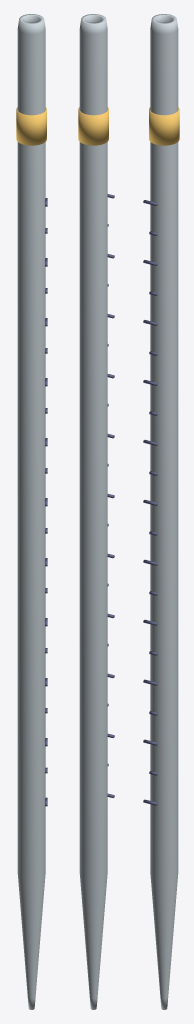
File: pipeta.glb
The picture shows the model from 3 angles, left to right: view 1: azimuth 90°, elevation 25°; view 2: azimuth 150°, elevation 25°; view 3: azimuth 330°, elevation 25°; orthographic projection.
Visible parts, largest first — view 1: pipeta_1, pipeta_2, pipeta_3; view 2: pipeta_1, pipeta_2, pipeta_3; view 3: pipeta_1, pipeta_2, pipeta_3.
Part boxes in pixels (x1,y1,x2,y2): pipeta_1: [17, 14, 45, 1009]; pipeta_2: [16, 107, 46, 145]; pipeta_3: [45, 198, 47, 806]; pipeta_1: [79, 14, 107, 1009]; pipeta_2: [78, 107, 108, 145]; pipeta_3: [107, 194, 114, 797]; pipeta_1: [150, 14, 178, 1009]; pipeta_2: [149, 107, 179, 145]; pipeta_3: [143, 200, 157, 805].
Bounding box in the file's own units: 0.0092 × 0.33 × 0.0094.
